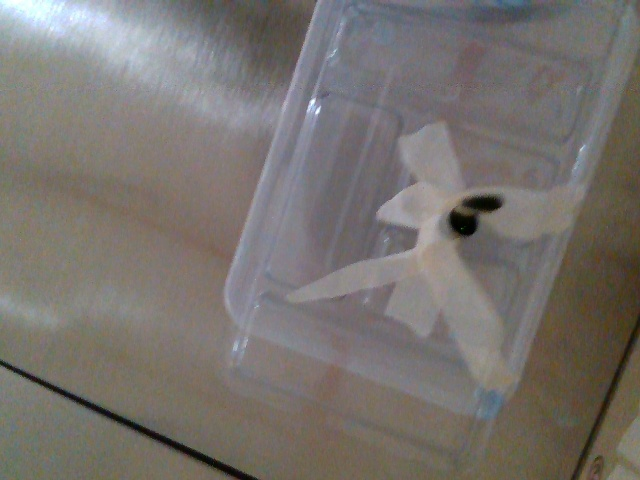test_strip: (450, 192, 501, 218)
